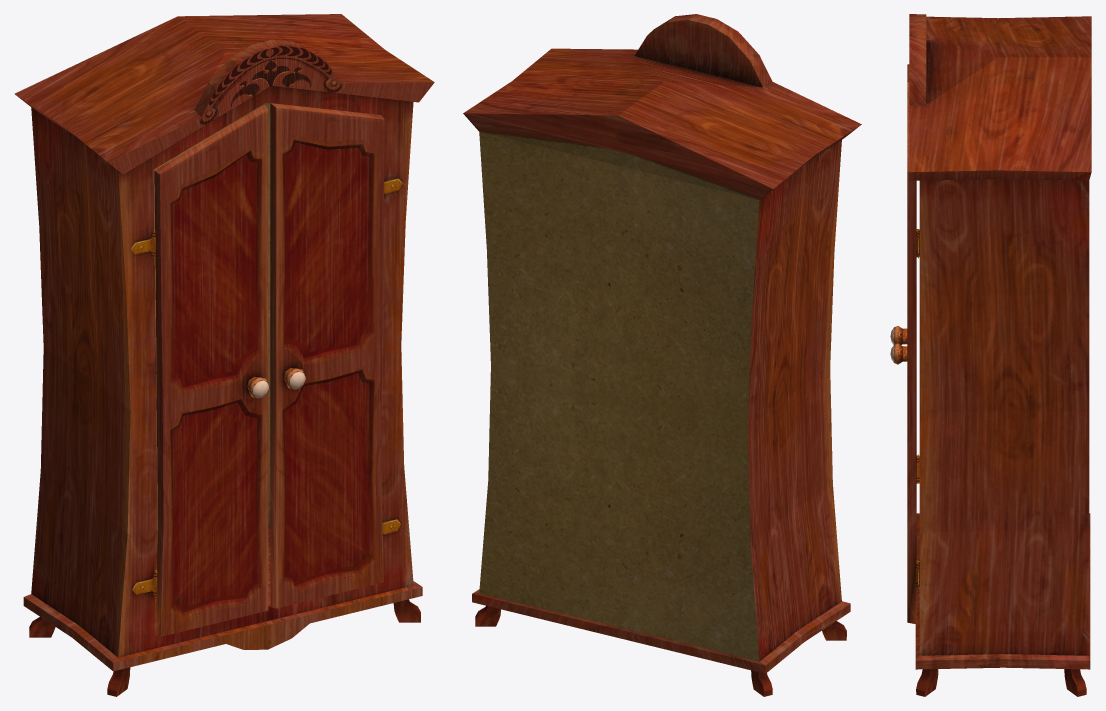
The model's file is HelloNeighborOldartCupboard.glb.
3 views of the same model, side by side, from view 1: azimuth 30°, elevation 25°; view 2: azimuth 150°, elevation 25°; view 3: azimuth 270°, elevation 25° (orthographic). The views are drawn at different scales.
Visible parts, largest first — view 1: cupboard.001, cupboard_part_2.001, cupboard_part.001; view 2: cupboard.001; view 3: cupboard.001, cupboard_part.001, cupboard_part_2.001.
Part boxes in pixels (bbox=[...]): cupboard.001: bbox=[14, 14, 434, 696]; cupboard_part_2.001: bbox=[154, 104, 269, 636]; cupboard_part.001: bbox=[270, 103, 384, 608]; cupboard.001: bbox=[463, 14, 861, 696]; cupboard.001: bbox=[909, 14, 1091, 696]; cupboard_part.001: bbox=[890, 82, 916, 624]; cupboard_part_2.001: bbox=[890, 64, 909, 344].
Bounding box in the file's own units: 1.36 × 2.43 × 0.739.
Materials: 3 (3 with a texture image).
